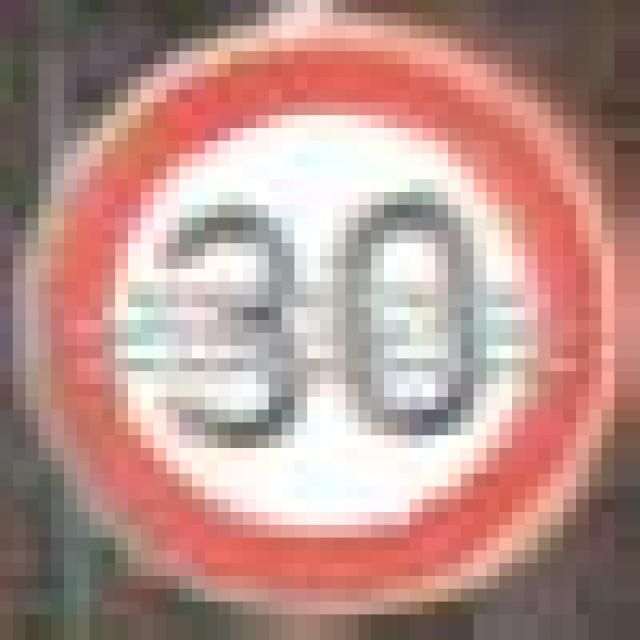SPEED_LIMIT_30: (0, 0, 614, 627)
